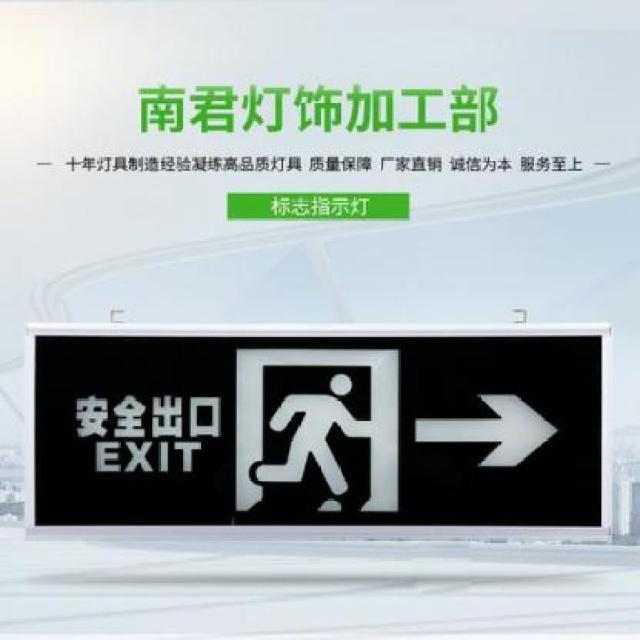exit_sign: (34, 330, 618, 538)
